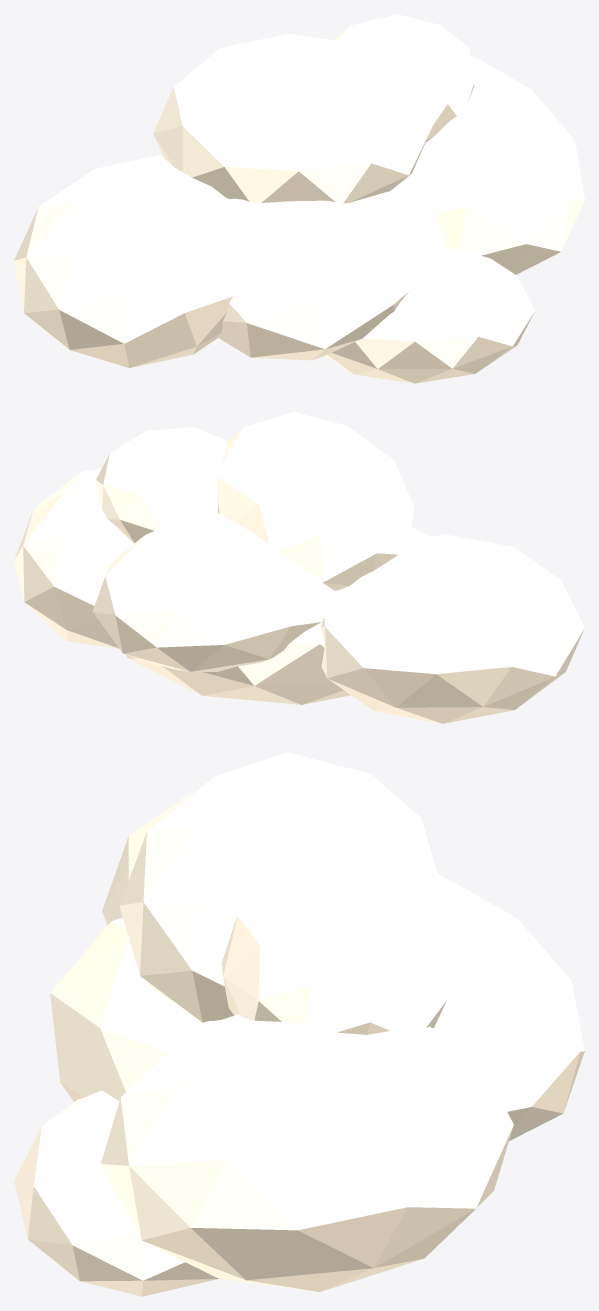
Rendered from cloud_puff.glb.
3 renders of one model, top to bottom at view 1: azimuth 30°, elevation 25°; view 2: azimuth 150°, elevation 25°; view 3: azimuth 270°, elevation 25°, orthographic. The views are drawn at different scales.
Parts seen in each view (by area): view 1: cloud_puff; view 2: cloud_puff; view 3: cloud_puff.
Boxes of the visible parts, left/top/right/bottom form: cloud_puff: left=14, top=14, right=584, bottom=383; cloud_puff: left=14, top=412, right=584, bottom=723; cloud_puff: left=14, top=752, right=584, bottom=1296.
Bounding box in the file's own units: 9.97 × 5.49 × 6.41.
